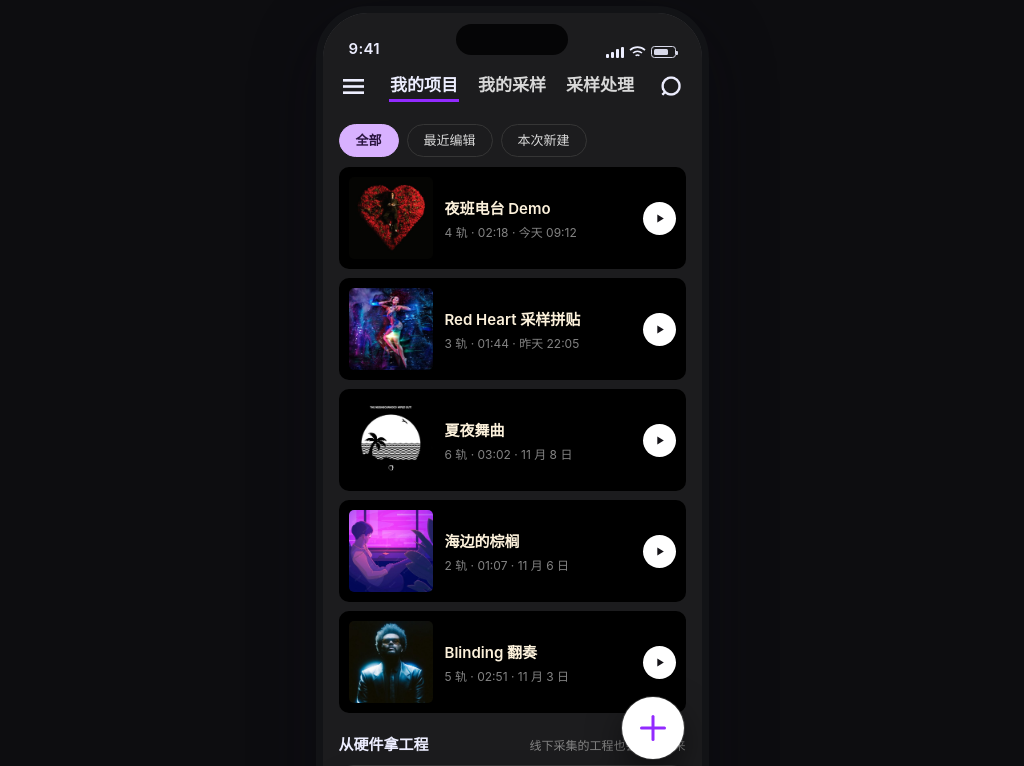
Test case: closes an overlay with Escape
The image size is (1024, 766).
Click the button named "新建或导入项目". click: (652, 728)
box: [622,697,684,759]
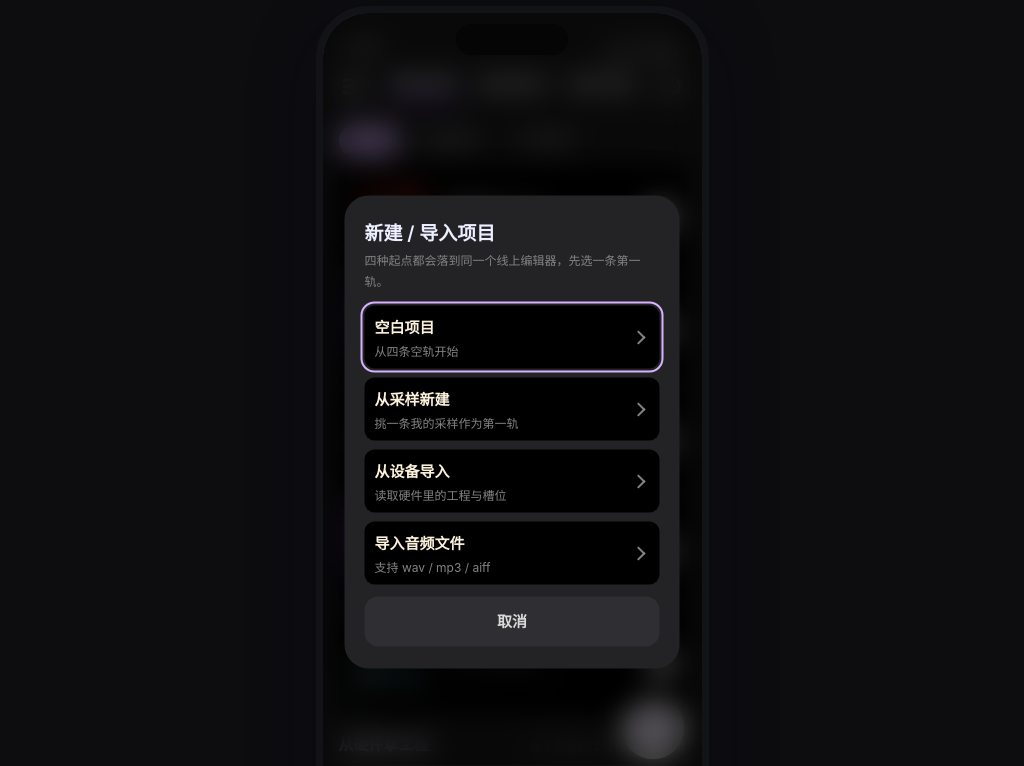
Expected: the dialog "新建 / 导入项目" is shown, [344,196,680,668]
Press Escape
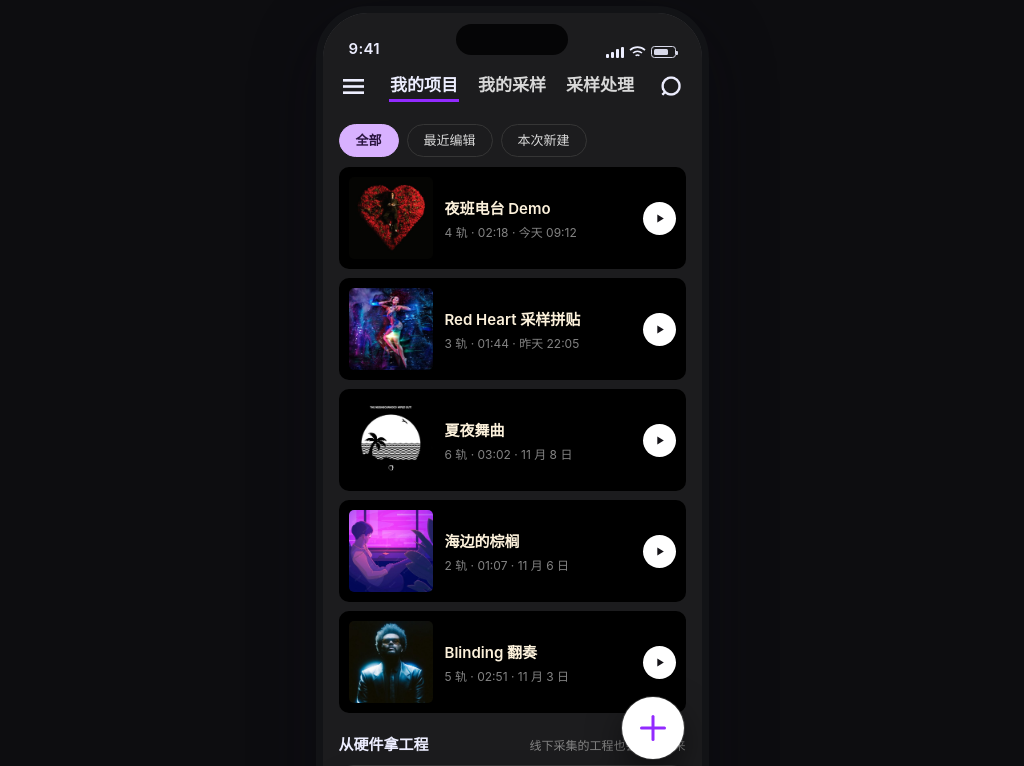
Expected: the heading "新建 / 导入项目" is gone
